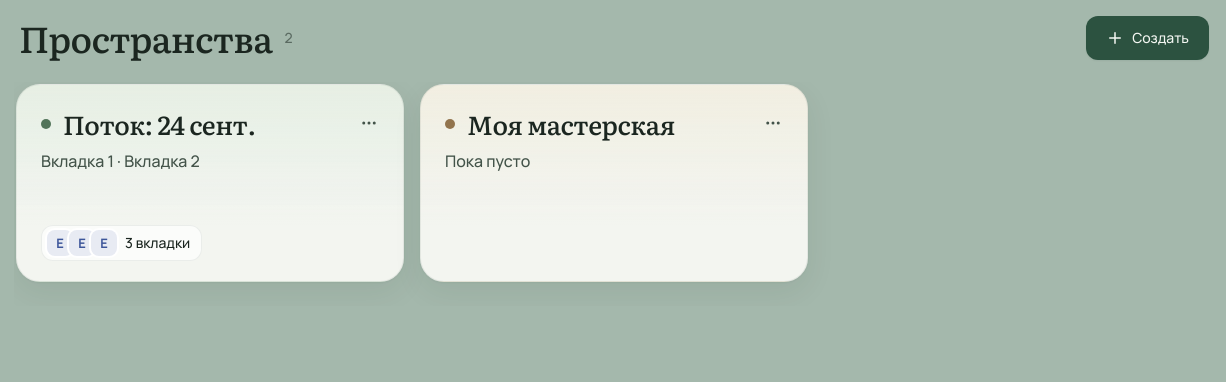
Test case: SpacesOverview - карточки пространств и меню три точки › отображает правильный лейбл закрепления в зависимости от space.pinned
Click the 1st button with class "task-more": [369, 123] box x1=351 y1=105 x2=387 y2=141
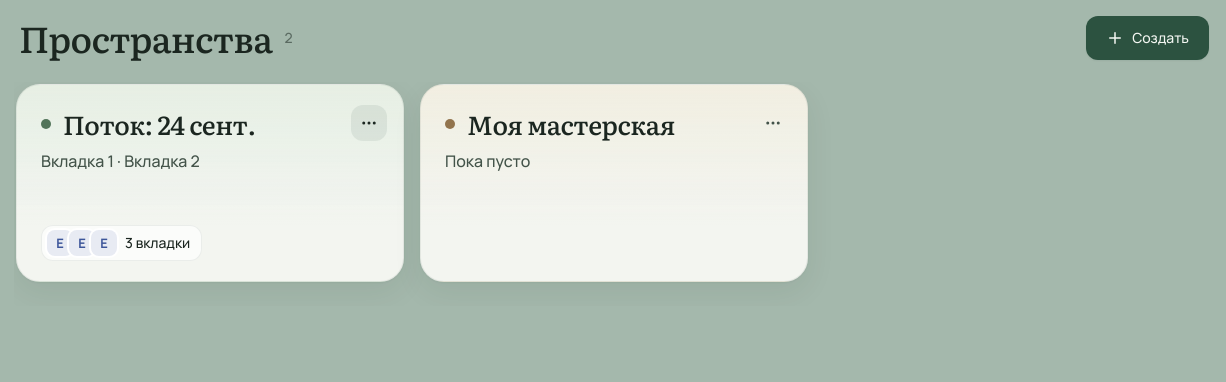
Note: Закрываем первое меню
Click the 1st button with class "task-more": [369, 123] box x1=351 y1=105 x2=387 y2=141
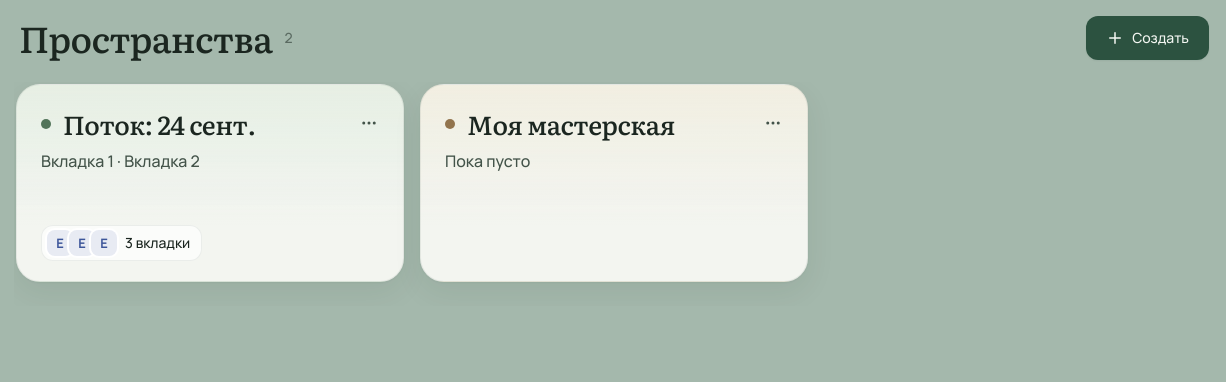
Click the 2nd button with class "task-more": [773, 123] box x1=755 y1=105 x2=791 y2=141
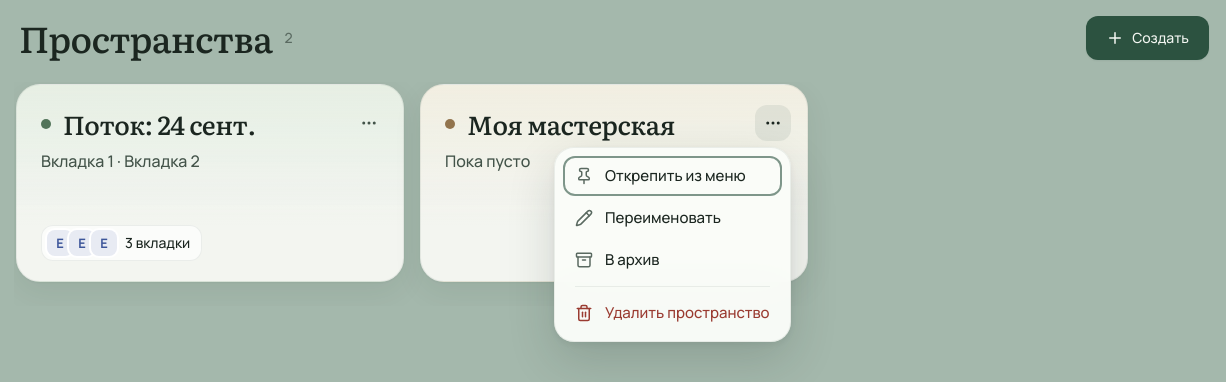
Now the menu shows "Открепить из меню", box x1=563 y1=156 x2=782 y2=196
